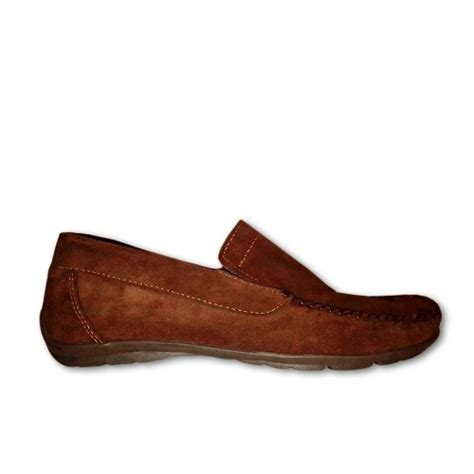gamuza: (40, 218, 442, 355)
